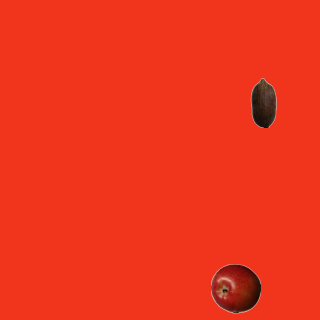Apple Braeburn: (210, 263, 260, 313)
Nut Pecan: (238, 77, 288, 127)
